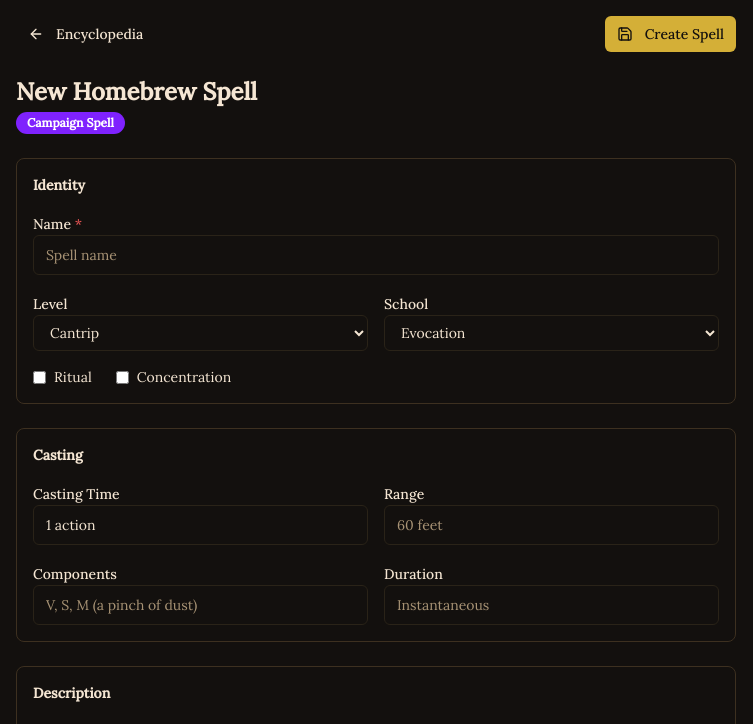
Test: SpellEditPage — new spell › shows generic error when createSpell fails without detail
Type "My Spell" into the field with test id "spell-name-input".
click(376, 255); type("My Spell")  # box [33, 235, 719, 275]
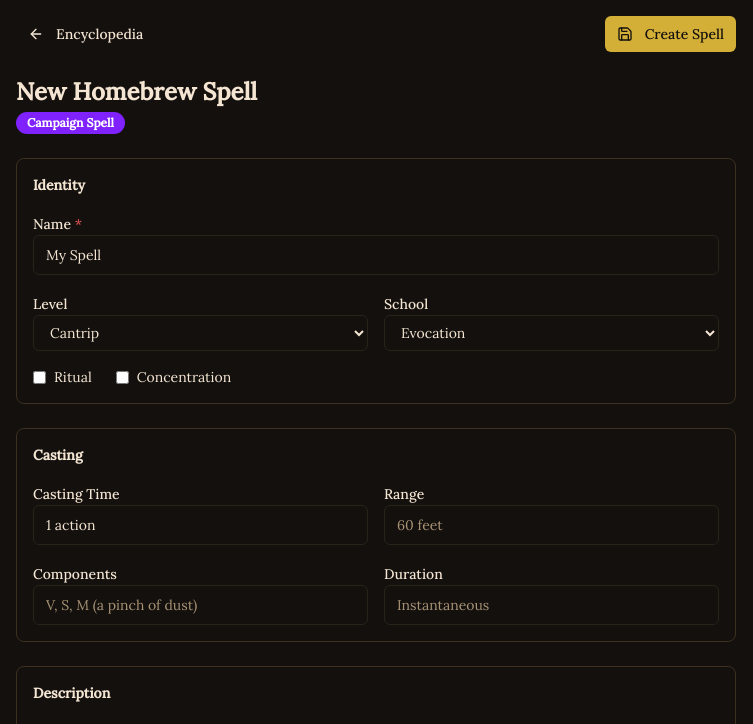
Click the button with test id "save-spell-btn".
click(670, 34)  # box [605, 16, 736, 52]
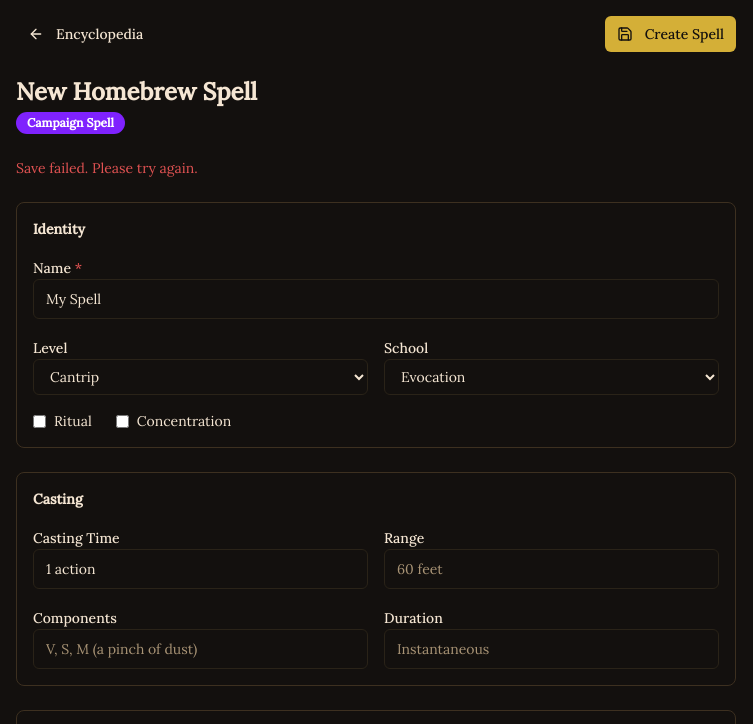
Check: the text "Save failed. Please try again." is shown, box [16, 159, 198, 177]
